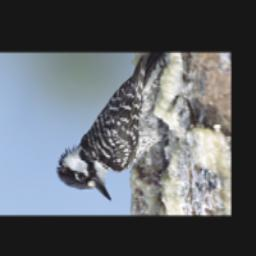Woodpecker: (55, 56, 199, 206)
